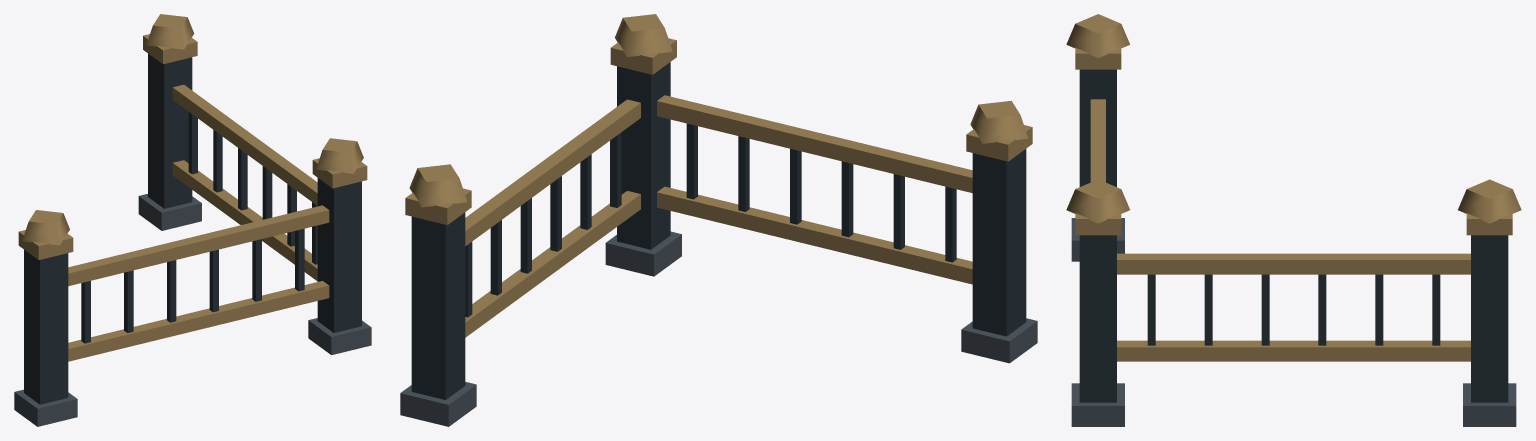
File: Fence_Corner.glb
The picture shows the model from 3 angles, left to right: view 1: azimuth 30°, elevation 25°; view 2: azimuth 150°, elevation 25°; view 3: azimuth 270°, elevation 25°; orthographic projection. The views are drawn at different scales.
Parts seen in each view (by area): view 1: Fence_Corner; view 2: Fence_Corner; view 3: Fence_Corner.
Part boxes in pixels (box(x1,y1,x2,y2)): Fence_Corner: box(14, 14, 371, 426); Fence_Corner: box(400, 14, 1037, 426); Fence_Corner: box(1066, 14, 1521, 426).
Size of the model in its own units: 2.56 by 1.4 by 2.56.
